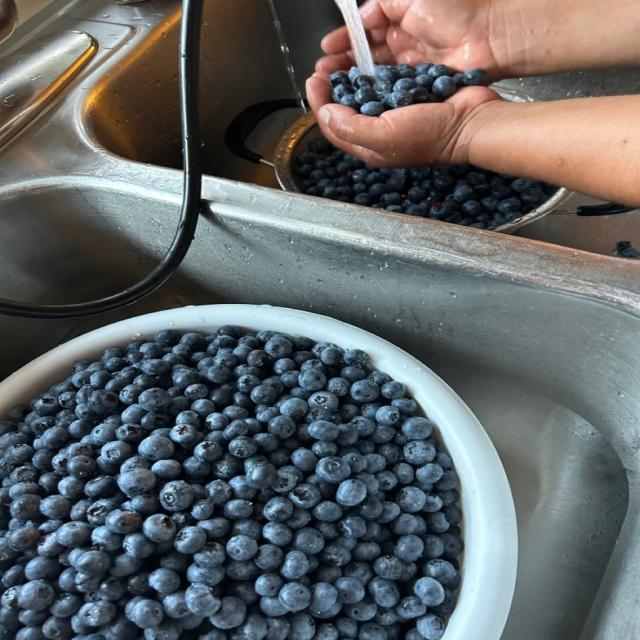blueberry: (185, 584, 221, 617), (17, 580, 55, 611), (210, 597, 246, 629), (118, 468, 157, 497), (127, 598, 164, 628), (159, 481, 193, 511), (143, 514, 177, 542), (316, 457, 352, 483), (279, 582, 311, 611), (139, 436, 174, 462), (309, 582, 338, 613), (174, 526, 206, 554), (414, 577, 444, 606), (423, 559, 457, 584), (122, 533, 155, 558), (288, 484, 321, 509), (336, 479, 366, 506), (394, 535, 424, 562), (335, 577, 365, 604), (294, 528, 324, 555), (281, 551, 309, 579), (343, 598, 377, 621), (404, 440, 435, 465), (396, 487, 426, 512), (227, 535, 257, 560), (263, 497, 293, 522), (263, 522, 293, 546), (417, 614, 445, 639), (374, 556, 403, 580), (396, 596, 426, 619), (350, 380, 379, 403), (255, 574, 283, 597), (308, 421, 338, 441), (416, 463, 443, 483), (432, 76, 456, 97), (359, 622, 388, 639), (385, 91, 412, 108), (355, 86, 377, 105), (464, 68, 487, 86), (427, 65, 453, 78), (329, 72, 350, 87), (394, 78, 417, 91), (354, 75, 375, 88), (453, 73, 465, 88)
